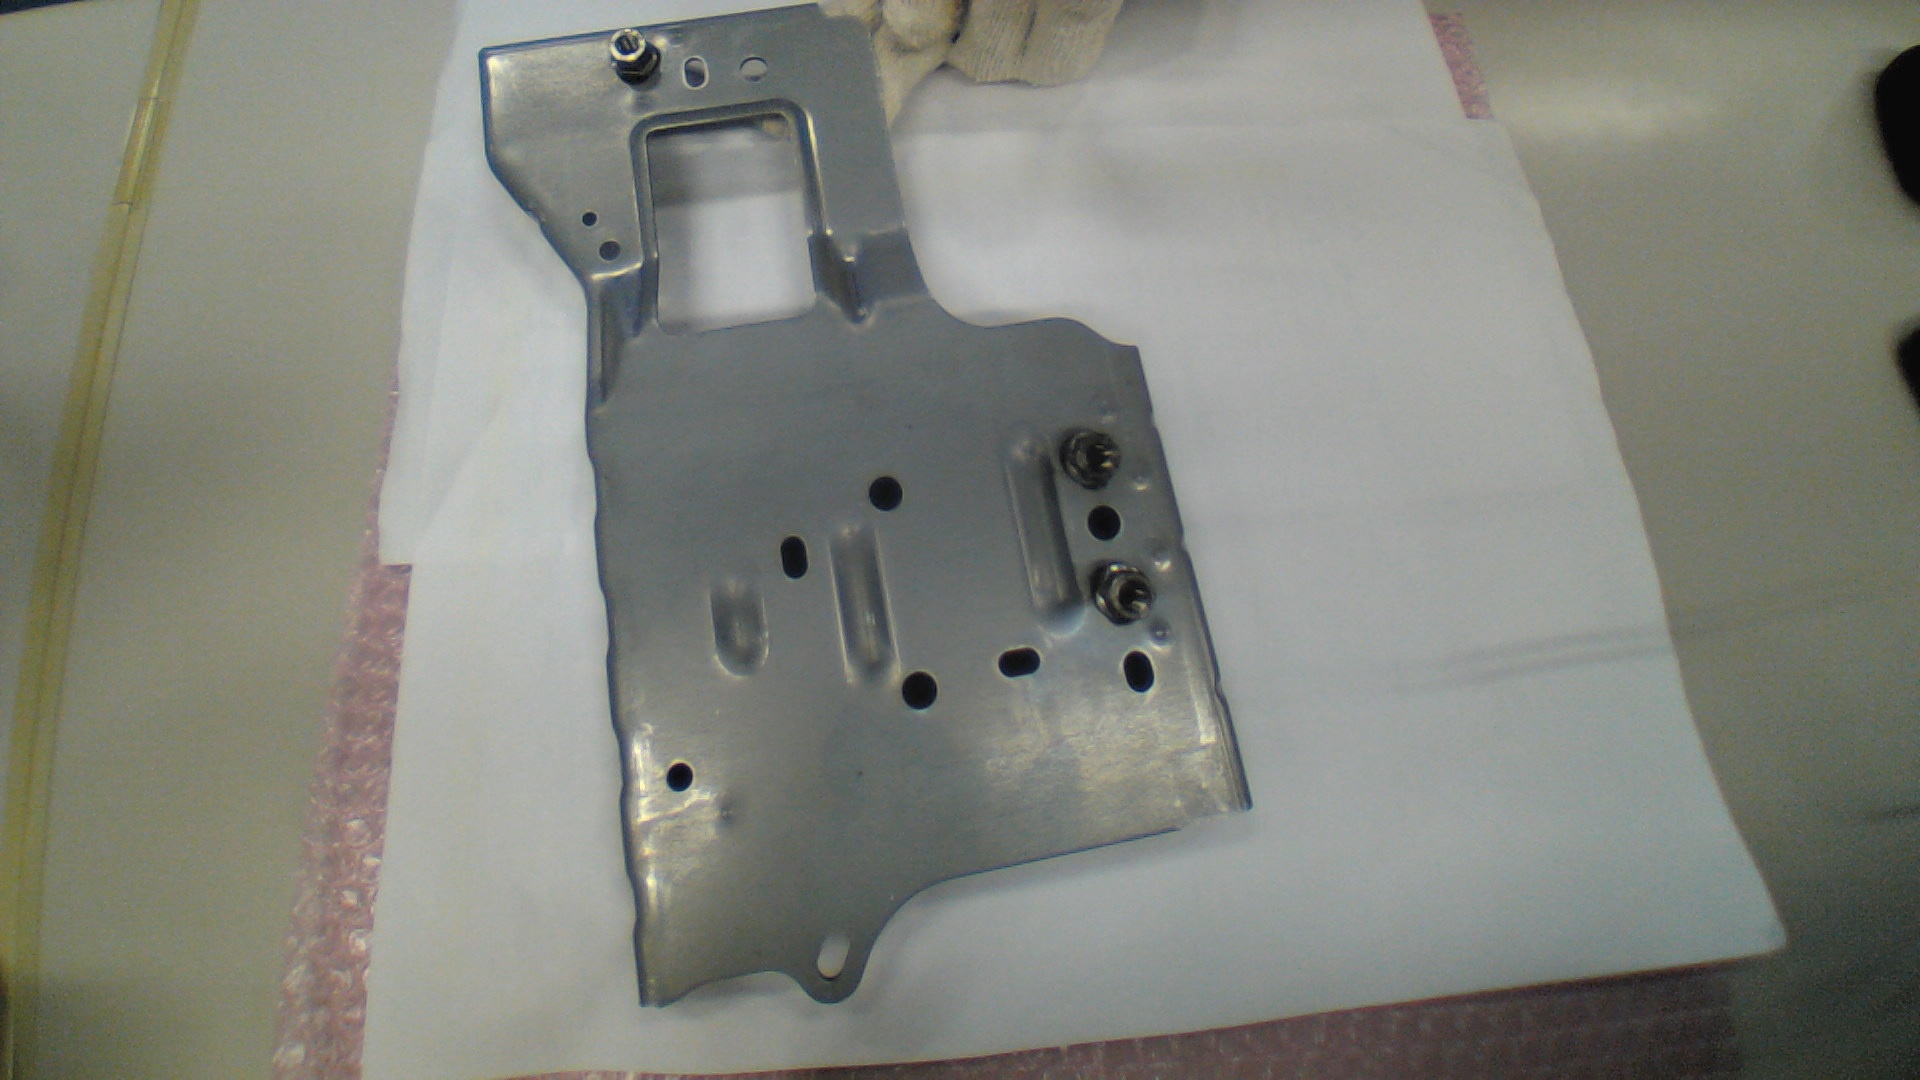dog: (1091, 560, 1154, 626), (1060, 427, 1120, 489), (609, 26, 665, 87)
